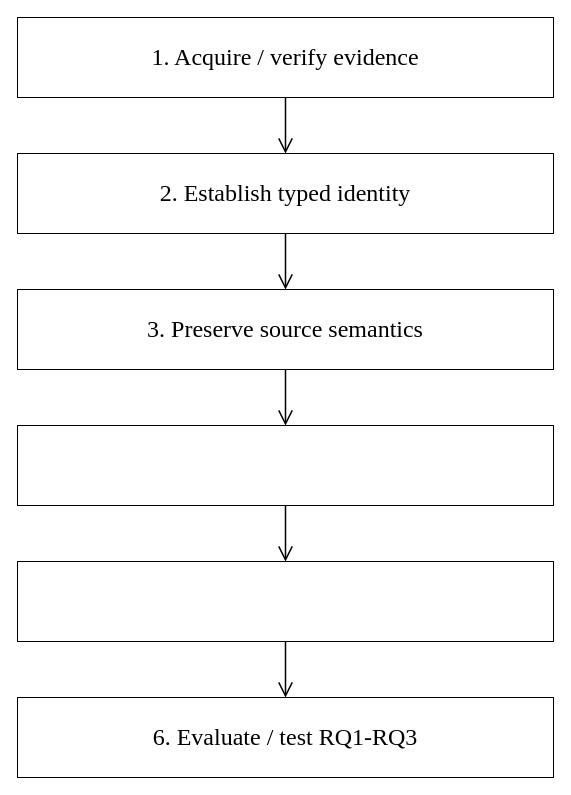
The diagram is 571 pixels wide and 795 high, and some of its shapes have lost their labels. Each missing label, with the box of its shape:
4. Publish immutable history: (16, 424, 554, 506)
5. Derive justified analytics: (16, 560, 554, 642)
